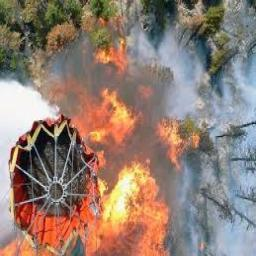Large fire: (43, 38, 198, 256)
Low smoke: (72, 27, 256, 200)
